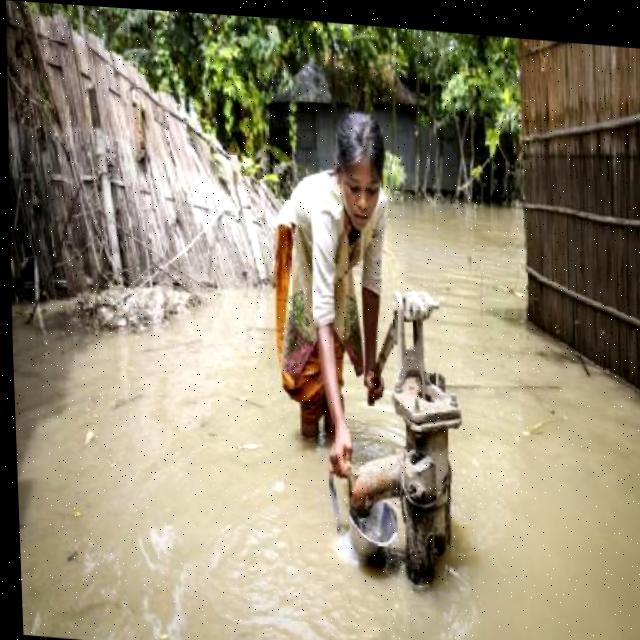civilian: (259, 96, 404, 487)
